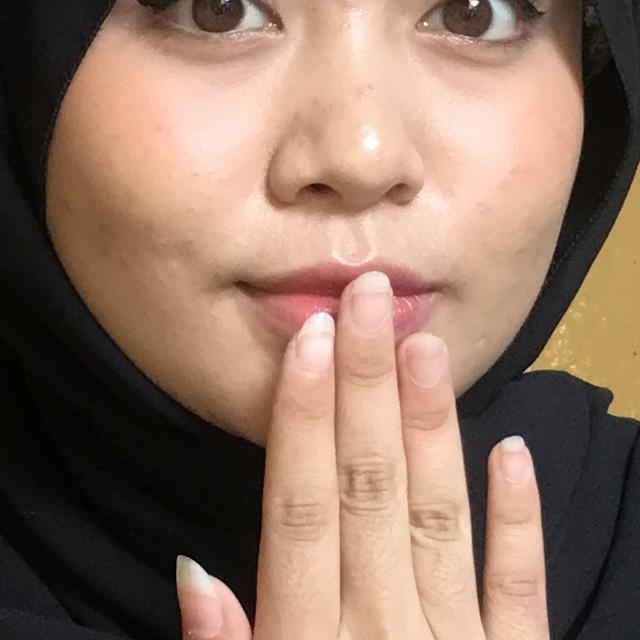ganteng: (85, 236, 640, 640)
